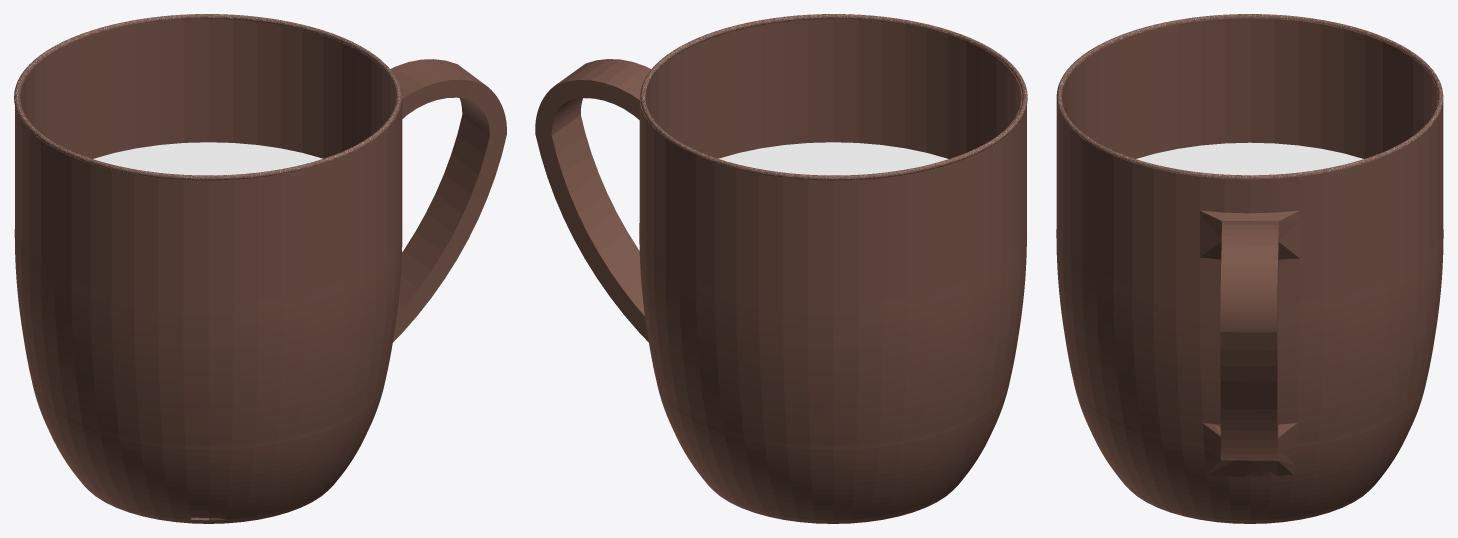
3 renders of one model, left to right at view 1: azimuth 30°, elevation 25°; view 2: azimuth 150°, elevation 25°; view 3: azimuth 270°, elevation 25°, orthographic.
Parts seen in each view (by area): view 1: mesh1_mesh1-geometry; view 2: mesh1_mesh1-geometry; view 3: mesh1_mesh1-geometry.
Part boxes in pixels (box(x1,y1,x2,y2)): mesh1_mesh1-geometry: box(14, 14, 506, 523); mesh1_mesh1-geometry: box(535, 14, 1027, 523); mesh1_mesh1-geometry: box(1056, 14, 1443, 523).
Size of the model in its own units: 0.6785 by 0.5356 by 0.5028.
